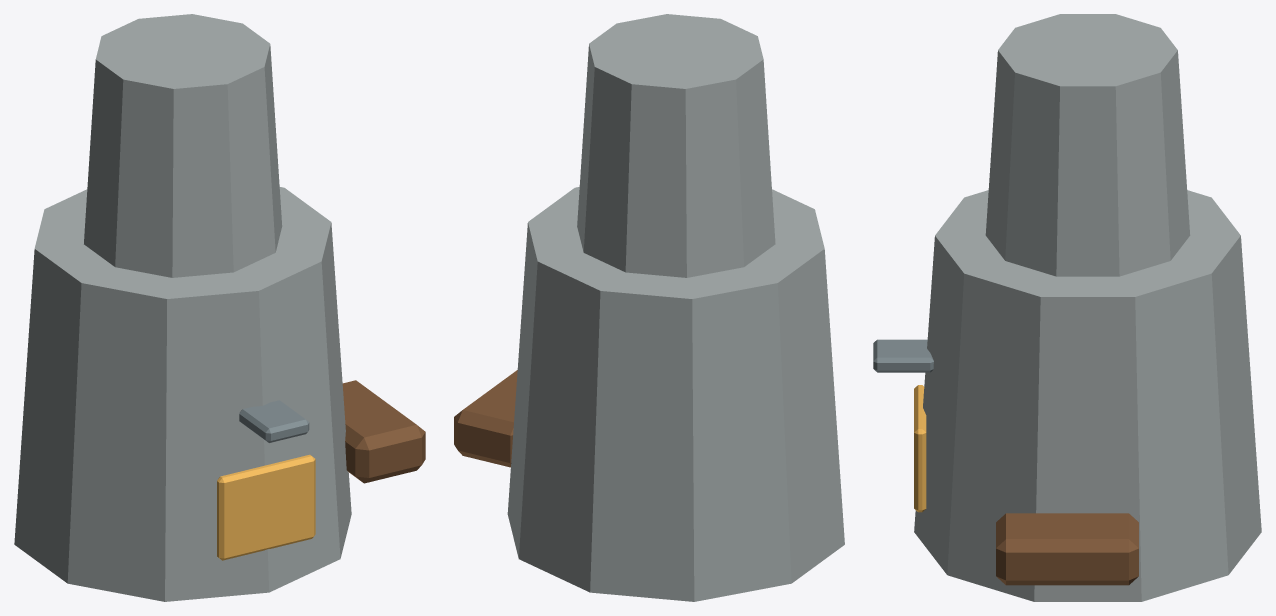
Rendered from CC_Smelter.fbx.
3 renders of one model, left to right at view 1: azimuth 30°, elevation 25°; view 2: azimuth 150°, elevation 25°; view 3: azimuth 270°, elevation 25°, orthographic.
Parts seen in each view (by area): view 1: Furnace body, Furnace top, Fire door, Bellows, Pour lip; view 2: Furnace body, Furnace top, Bellows; view 3: Furnace body, Furnace top, Bellows, Pour lip, Fire door.
Part boxes in pixels (<box>): Furnace body: <box>14,187,351,601</box>; Furnace top: <box>84,14,282,277</box>; Fire door: <box>217,454,315,560</box>; Bellows: <box>342,380,425,483</box>; Pour lip: <box>239,400,309,442</box>; Furnace body: <box>507,187,844,601</box>; Furnace top: <box>577,14,775,277</box>; Bellows: <box>454,370,517,467</box>; Furnace body: <box>914,190,1261,601</box>; Furnace top: <box>985,14,1190,276</box>; Bellows: <box>996,513,1138,585</box>; Pour lip: <box>873,339,933,372</box>; Fire door: <box>914,385,926,512</box>.
Size of the model in its own units: 1.96 by 2.6 by 1.9.
